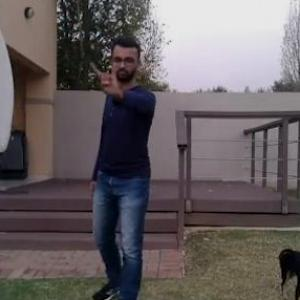takeoff-hand: (91, 53, 124, 94)
